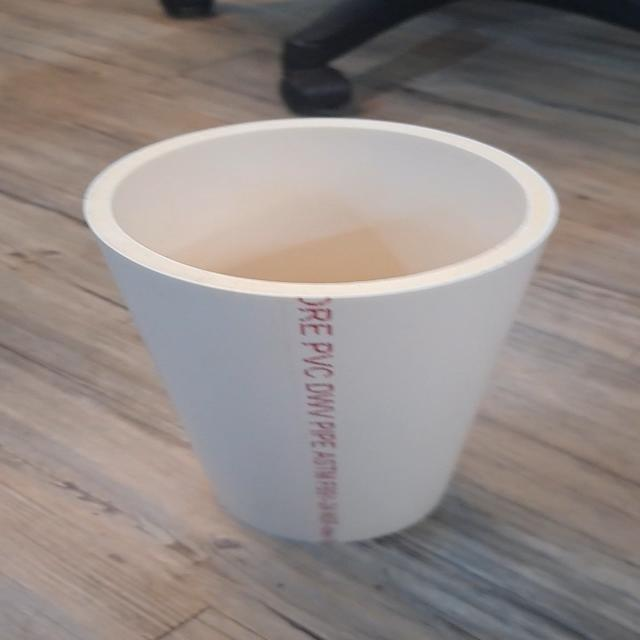CORAL: (54, 112, 568, 549)
